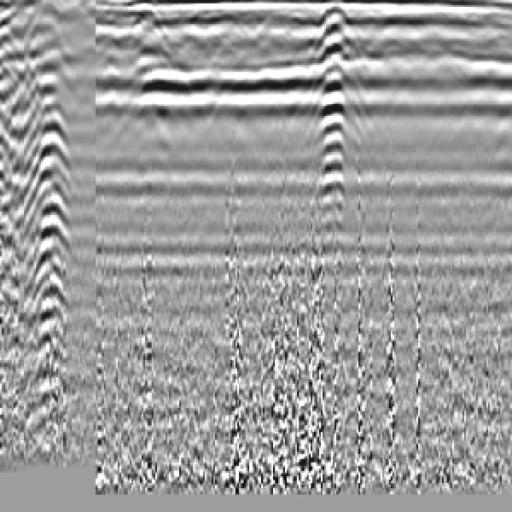non-metallic: (5, 8, 99, 415), (300, 2, 365, 242)
